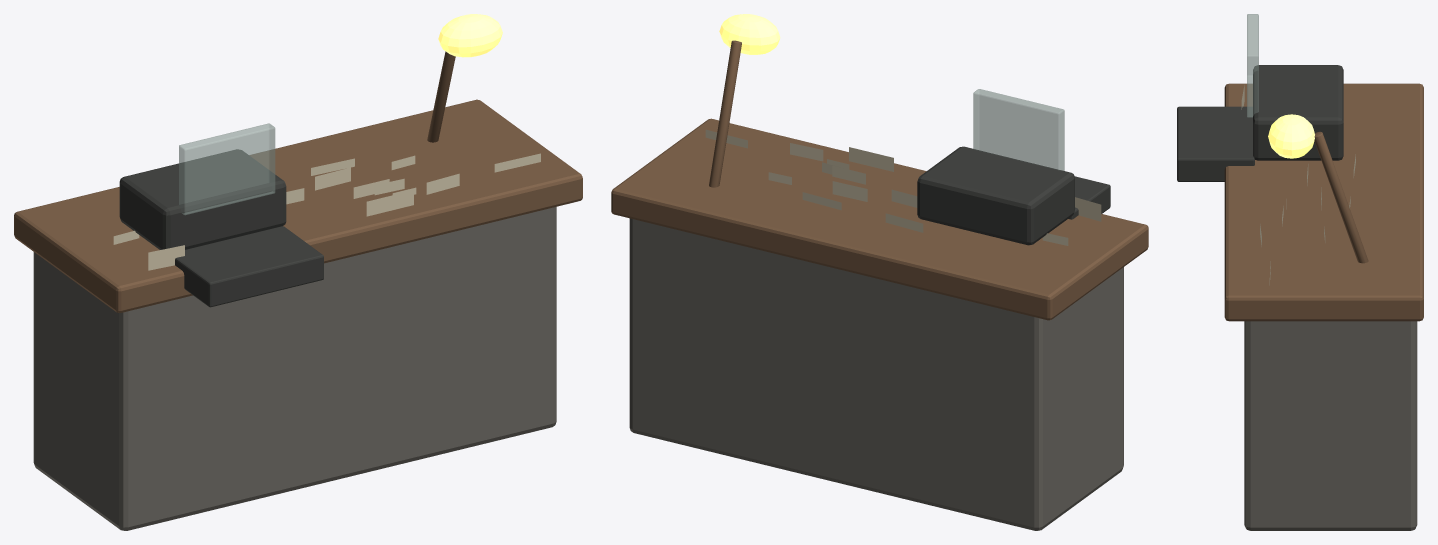
File: dz_counter_cash_register_ruined.glb
The picture shows the model from 3 angles, left to right: view 1: azimuth 30°, elevation 25°; view 2: azimuth 150°, elevation 25°; view 3: azimuth 270°, elevation 25°; orthographic projection. The views are drawn at different scales.
Visible parts, largest first — view 1: counter_scarred_body, counter_broken_top, register_base, open_cash_drawer, register_screen_cracked, small_desk_lamp_head, small_desk_lamp_stem, counter_receipts_paper_label_00; view 2: counter_scarred_body, counter_broken_top, register_base, register_screen_cracked, small_desk_lamp_head, small_desk_lamp_stem, open_cash_drawer, counter_receipts_paper_label_00; view 3: counter_broken_top, counter_scarred_body, register_base, open_cash_drawer, small_desk_lamp_head, small_desk_lamp_stem, register_screen_cracked.
Part boxes in pixels (x1=…): counter_scarred_body: x1=33, y1=207, x2=556, y2=530; counter_broken_top: x1=14, y1=99, x2=582, y2=312; register_base: x1=119, y1=149, x2=286, y2=249; open_cash_drawer: x1=175, y1=226, x2=323, y2=307; register_screen_cracked: x1=179, y1=123, x2=275, y2=215; small_desk_lamp_head: x1=438, y1=14, x2=502, y2=57; small_desk_lamp_stem: x1=427, y1=51, x2=455, y2=142; counter_receipts_paper_label_00: x1=366, y1=190, x2=413, y2=216; counter_scarred_body: x1=629, y1=218, x2=1123, y2=530; counter_broken_top: x1=611, y1=118, x2=1148, y2=320; register_base: x1=917, y1=146, x2=1074, y2=245; register_screen_cracked: x1=973, y1=89, x2=1064, y2=170; small_desk_lamp_head: x1=719, y1=14, x2=780, y2=54; small_desk_lamp_stem: x1=709, y1=40, x2=741, y2=187; open_cash_drawer: x1=1068, y1=176, x2=1110, y2=219; counter_receipts_paper_label_00: x1=849, y1=147, x2=893, y2=171; counter_broken_top: x1=1224, y1=83, x2=1423, y2=321; counter_scarred_body: x1=1244, y1=321, x2=1417, y2=530; register_base: x1=1253, y1=65, x2=1343, y2=160; open_cash_drawer: x1=1177, y1=106, x2=1254, y2=181; small_desk_lamp_head: x1=1268, y1=114, x2=1314, y2=158; small_desk_lamp_stem: x1=1314, y1=131, x2=1368, y2=263; register_screen_cracked: x1=1247, y1=14, x2=1258, y2=117.
Size of the model in its own units: 2.35 by 1.97 by 1.14.
